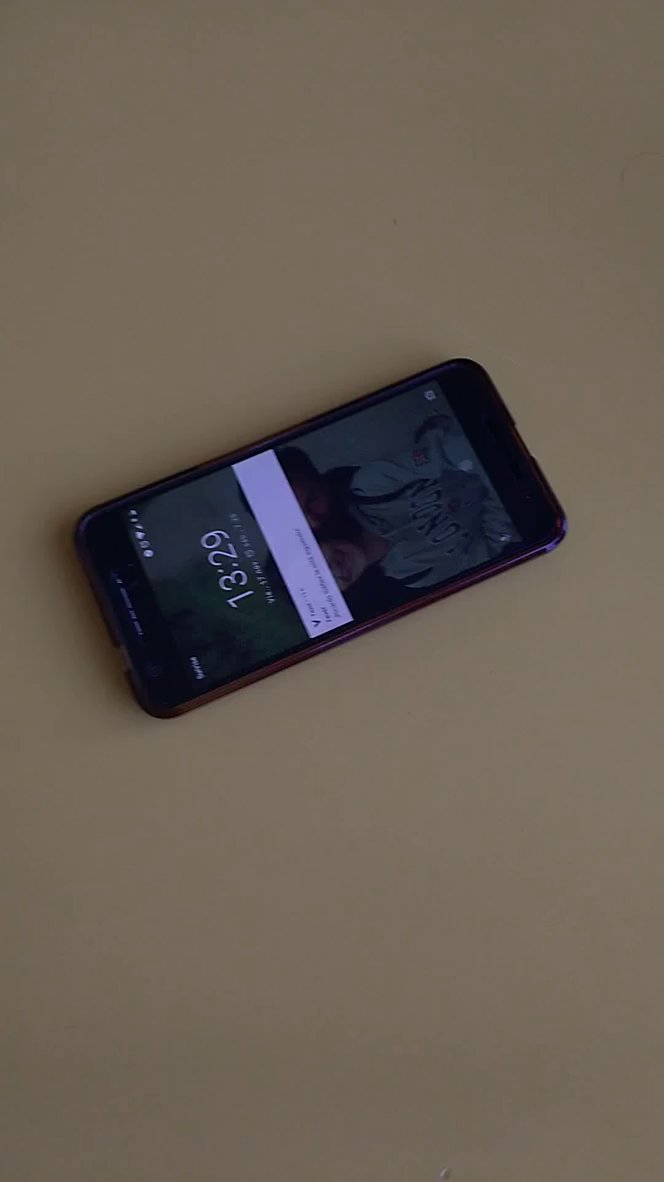phone: (48, 339, 605, 755)
